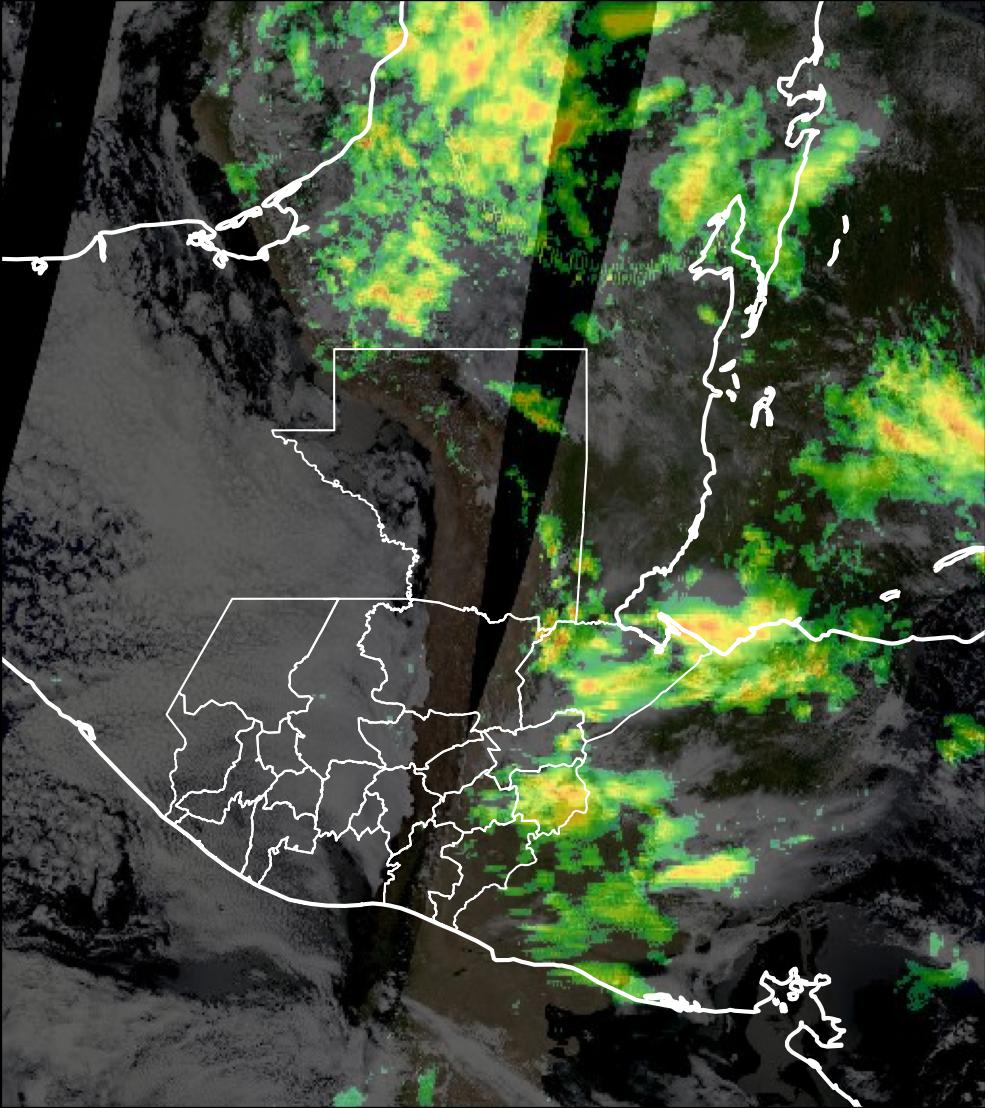precipitacion: (872, 373, 985, 470)
